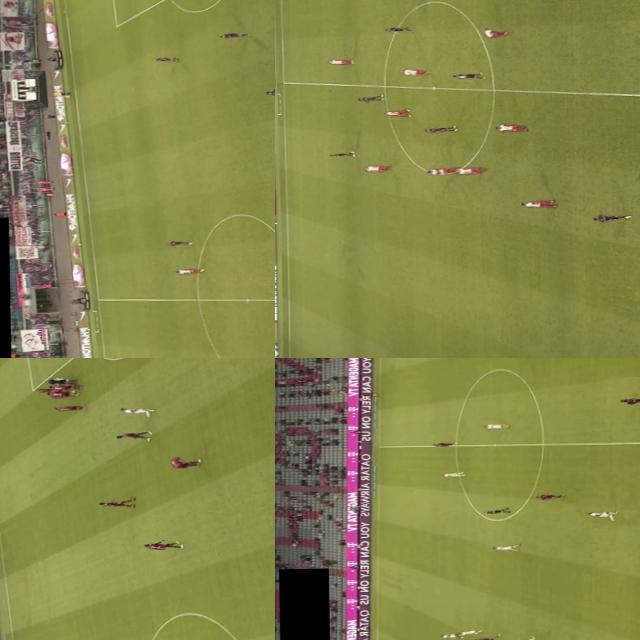ball: (68, 388, 78, 392)
player: (166, 452, 202, 470), (590, 210, 632, 223), (142, 538, 184, 550), (520, 196, 558, 209), (492, 122, 530, 135), (95, 497, 136, 508), (112, 429, 152, 440), (448, 69, 481, 80), (114, 405, 154, 414), (476, 27, 506, 38), (589, 510, 620, 520), (218, 30, 252, 39), (452, 164, 486, 173), (427, 166, 461, 175), (326, 149, 356, 159), (387, 24, 415, 34), (174, 266, 205, 275), (325, 57, 359, 65), (48, 382, 82, 390), (427, 124, 458, 132), (384, 108, 414, 116), (44, 389, 78, 396), (166, 239, 194, 247), (356, 93, 384, 101), (52, 403, 84, 410), (152, 54, 180, 61), (402, 67, 426, 75), (482, 421, 508, 428), (533, 492, 563, 498), (620, 395, 640, 404), (491, 544, 518, 550), (34, 386, 66, 391), (365, 166, 391, 172), (438, 632, 463, 638), (264, 85, 275, 98), (430, 441, 458, 446), (473, 635, 498, 640), (508, 636, 536, 640), (439, 472, 464, 476), (458, 629, 482, 633)
